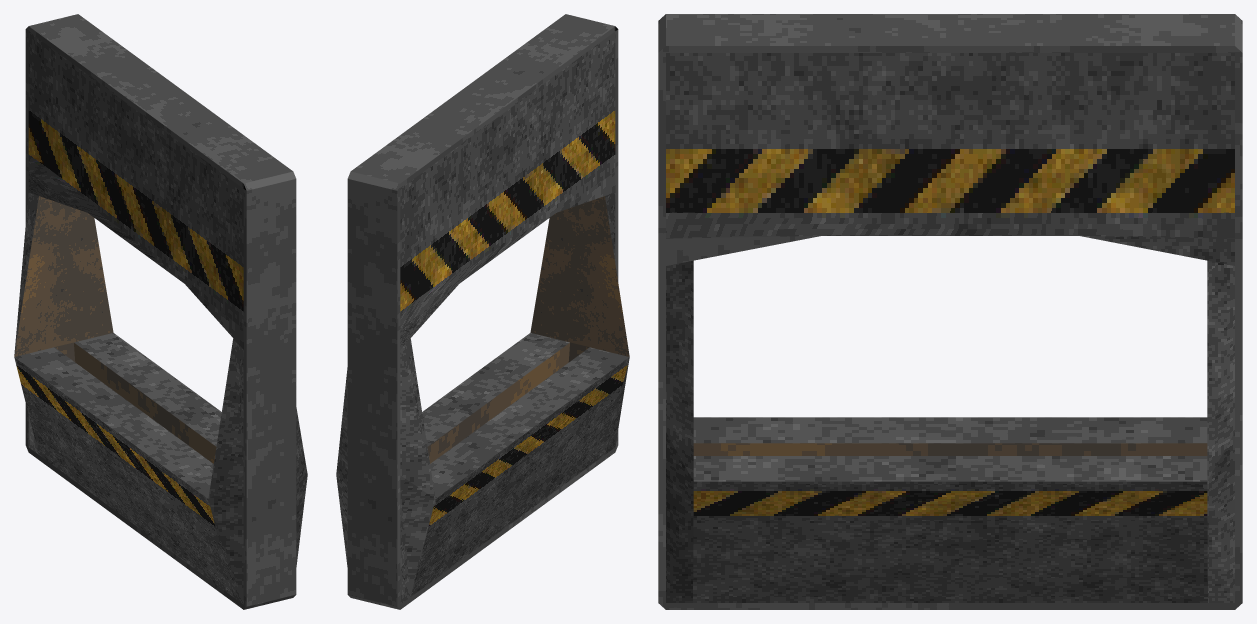
Rendered from Hazard_Frame_door-col.glb.
3 renders of one model, left to right at view 1: azimuth 30°, elevation 25°; view 2: azimuth 150°, elevation 25°; view 3: azimuth 270°, elevation 25°, orthographic. The views are drawn at different scales.
Visible parts, largest first — view 1: Hazard_Frame_door-col; view 2: Hazard_Frame_door-col; view 3: Hazard_Frame_door-col.
Part boxes in pixels (<box>): Hazard_Frame_door-col: <box>14,14,307,609</box>; Hazard_Frame_door-col: <box>336,14,629,609</box>; Hazard_Frame_door-col: <box>658,14,1242,609</box>.
Bounding box in the file's own units: 2 × 8.2 × 7.7.
Materials: 1 (1 with a texture image).
